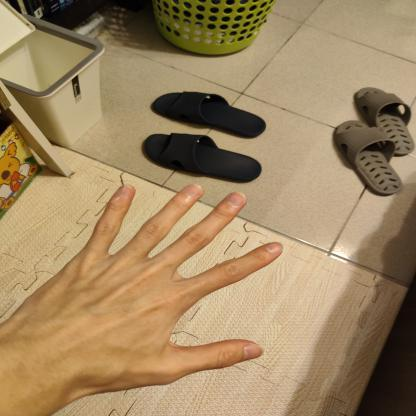bare_hand: (2, 174, 292, 416)
